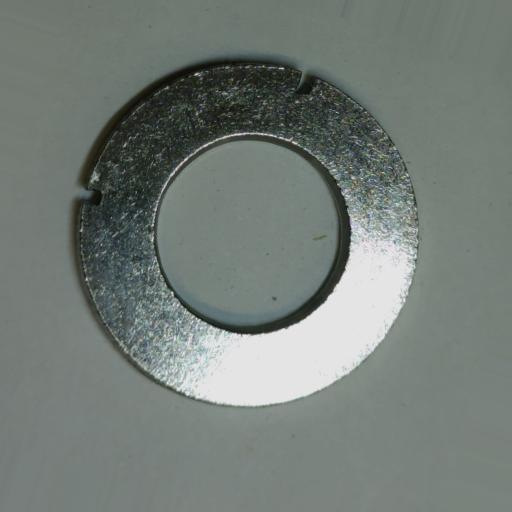burr: (292, 69, 315, 93), (81, 185, 105, 207)
